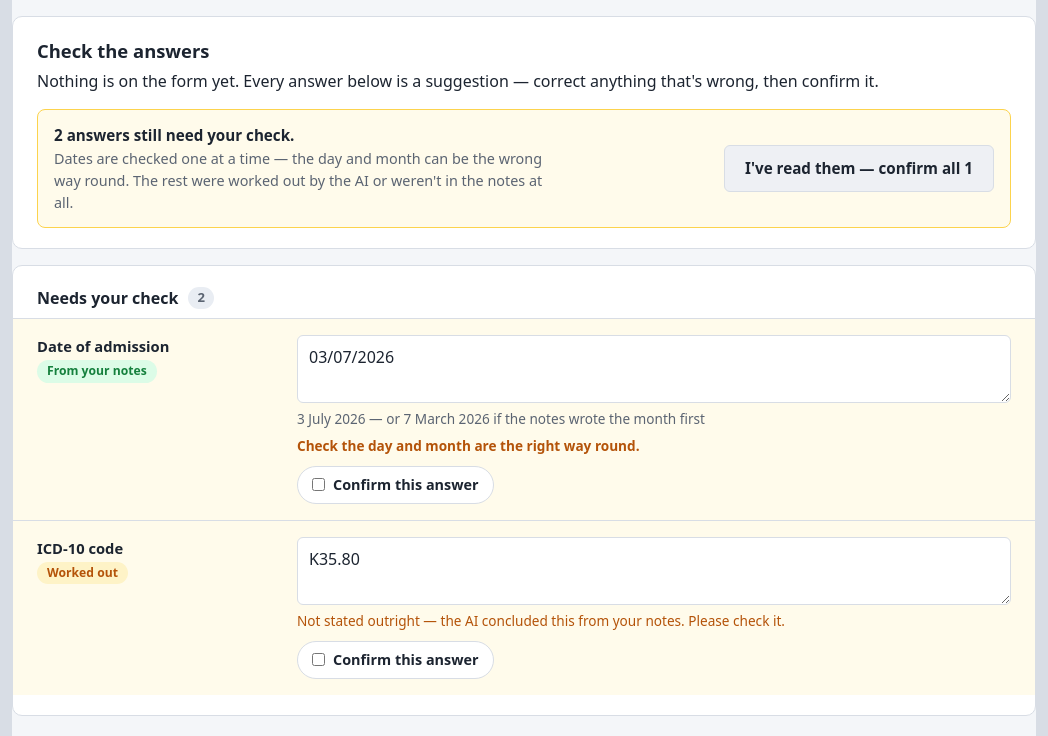
Test: Confirm all › does not reach a date
Click the button "I've read them — confirm all 1": (859, 168) [724,145,994,192]
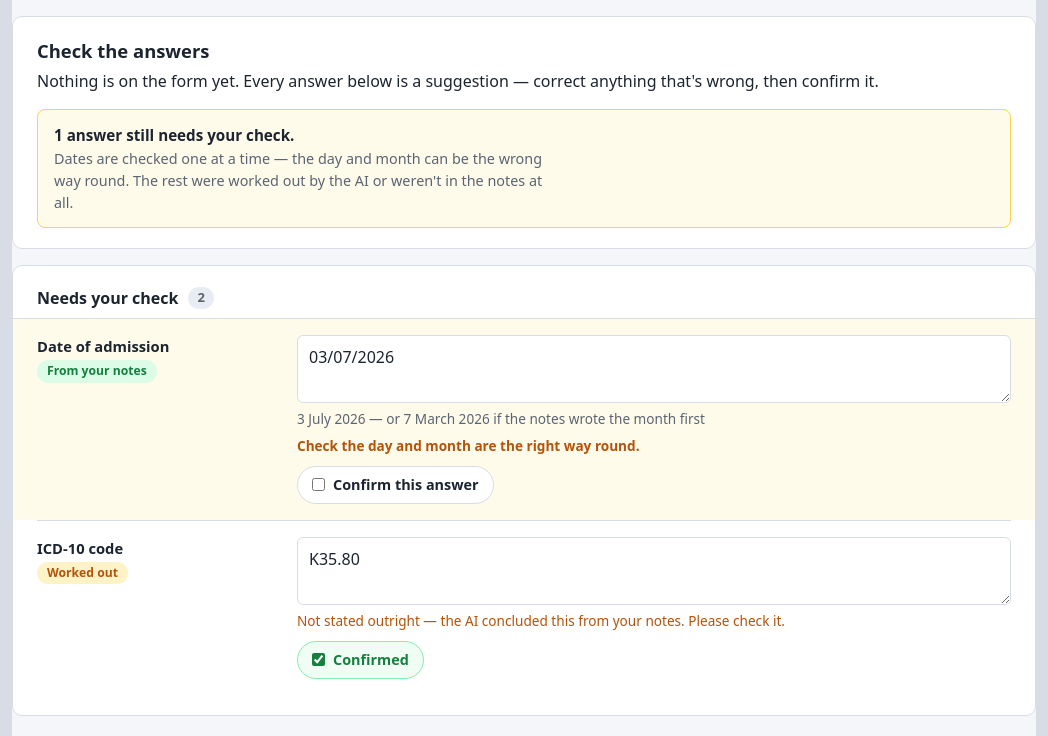
Check: the text "1 answer still needs your check." is shown, box [54,125,294,145]
